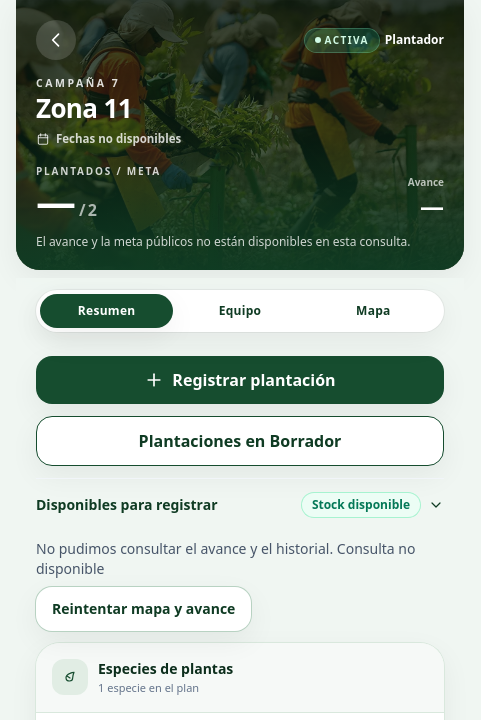
Test: Participar centrado en campañas y subcampañas habilitadas › permite registrar con stock confirmado aunque falle la consulta de avance público
Expected: the link "Registrar plantación" is shown, left=36, top=356, right=444, bottom=404
Expected: the text "El avance y la meta públicos no están disponibles" is shown, left=36, top=233, right=410, bottom=250
Click the button "Reintentar mapa y avance" at (144, 609), box left=36, top=587, right=251, bottom=631
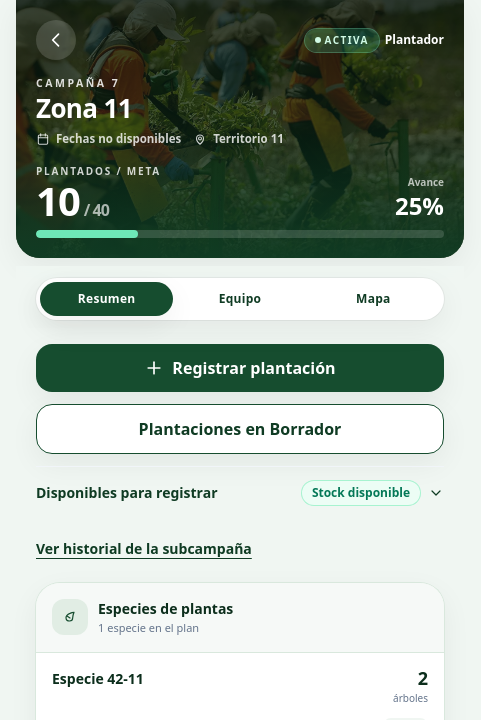
Expected: the progress indicator is shown, left=36, top=230, right=444, bottom=238
